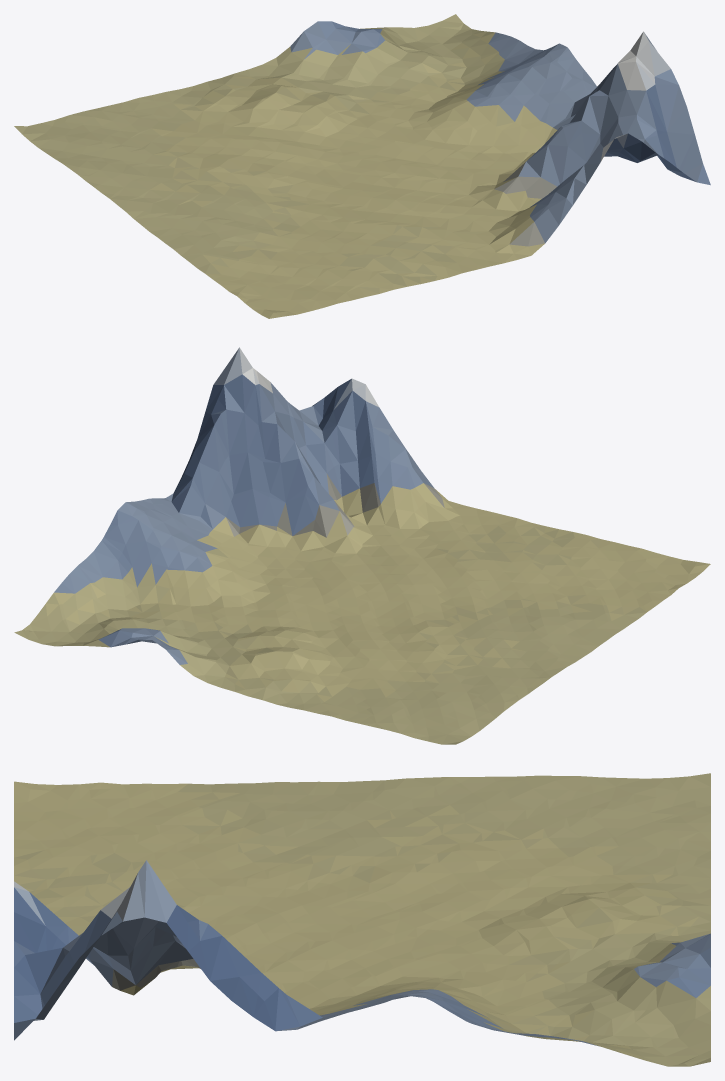
Rendered from Ground_0_-4.glb.
3 renders of one model, top to bottom at view 1: azimuth 30°, elevation 25°; view 2: azimuth 150°, elevation 25°; view 3: azimuth 270°, elevation 25°, orthographic. The views are drawn at different scales.
Parts seen in each view (by area): view 1: Ground_0_-4; view 2: Ground_0_-4; view 3: Ground_0_-4.
Boxes of the visible parts, x1,y1,x2,y2 form: Ground_0_-4: (14, 14, 710, 318); Ground_0_-4: (14, 347, 710, 744); Ground_0_-4: (14, 773, 710, 1066).
Size of the model in its own units: 768 by 252 by 768.
